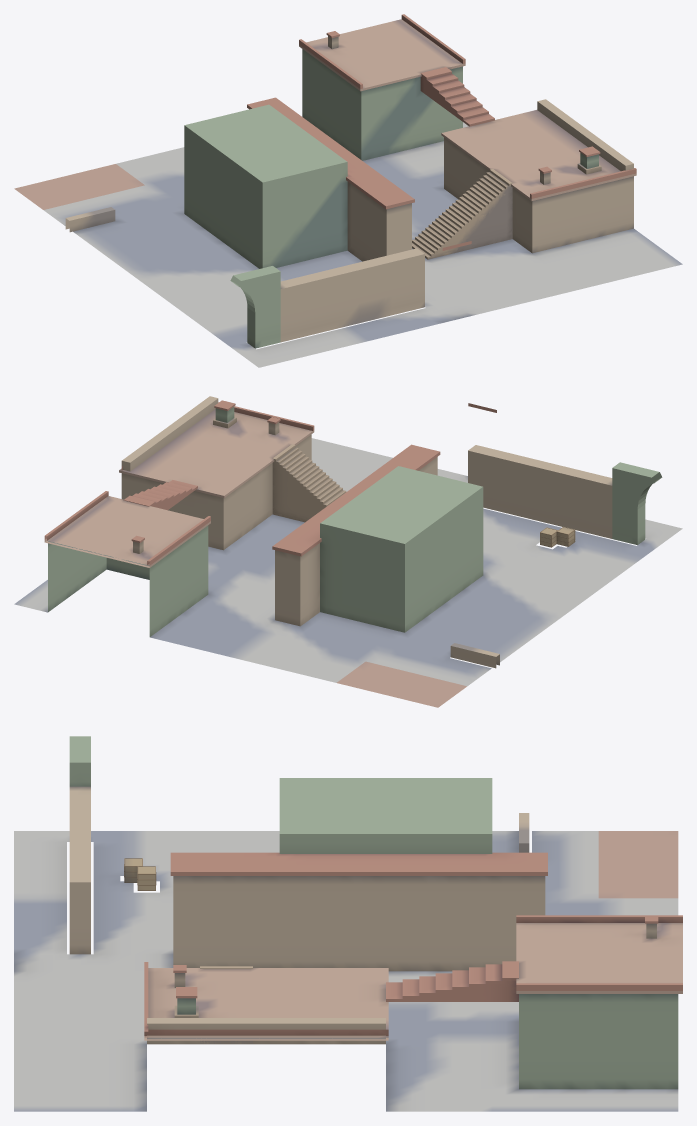
The picture shows the model from 3 angles, top to bottom: view 1: azimuth 30°, elevation 25°; view 2: azimuth 150°, elevation 25°; view 3: azimuth 270°, elevation 25°; orthographic projection. The views are drawn at different scales.
Visible parts, largest first — view 1: t; view 2: t; view 3: t.
Part boxes in pixels (x1,y1,x2,y2): t: [14, 14, 682, 367]; t: [14, 396, 682, 707]; t: [14, 736, 682, 1111].
Size of the model in its own units: 50.58 by 10 by 50.35.
